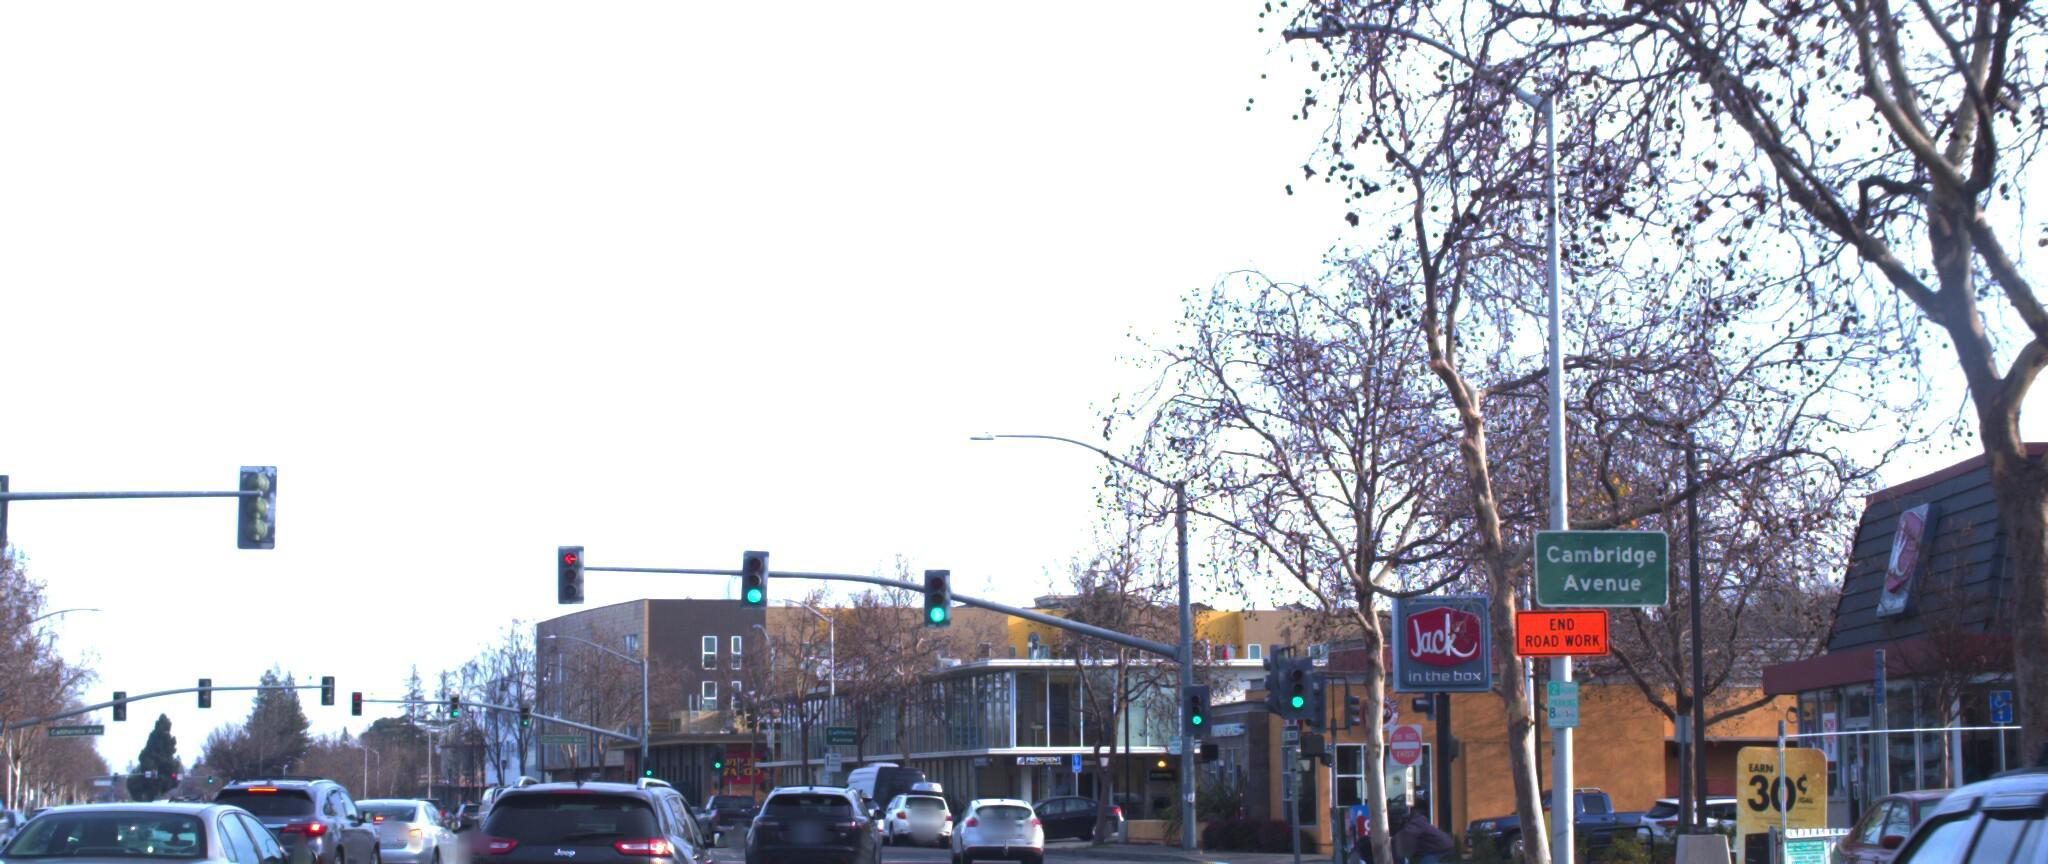car: (1716, 736, 2048, 864), (1708, 774, 2048, 864), (439, 769, 746, 864), (0, 784, 360, 864), (1812, 777, 2048, 864), (1607, 780, 1834, 864), (188, 774, 393, 864), (1435, 783, 1667, 857), (741, 767, 882, 864), (317, 786, 472, 864), (939, 784, 1023, 856), (0, 780, 29, 864)
